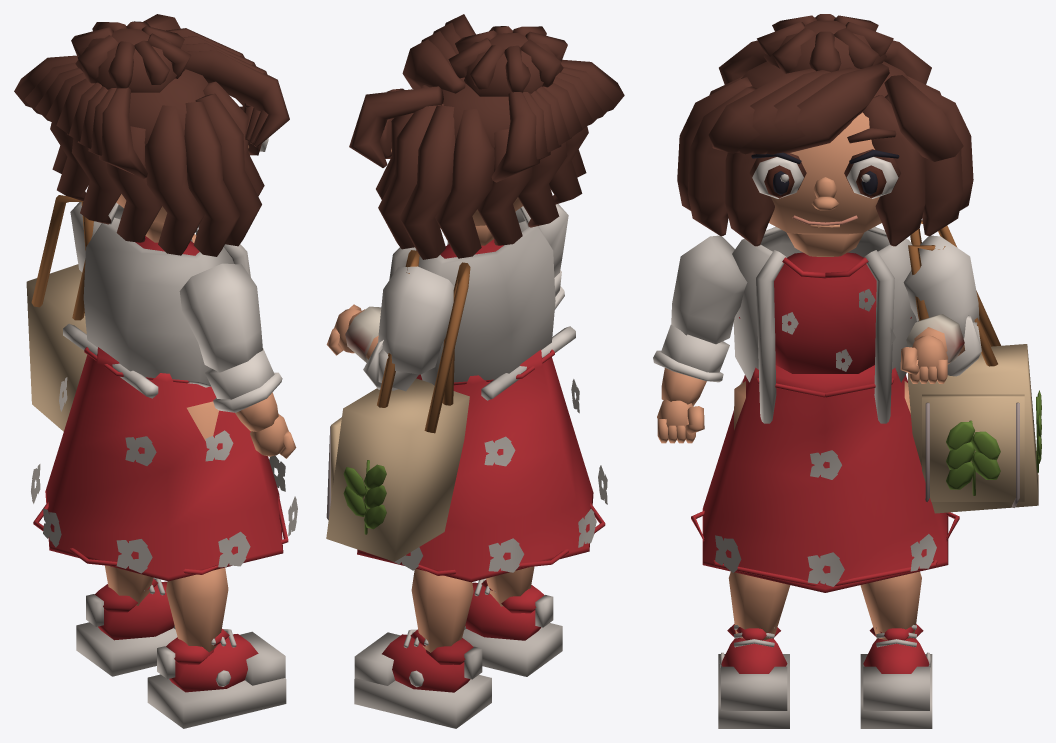
The picture shows the model from 3 angles, left to right: view 1: azimuth 30°, elevation 25°; view 2: azimuth 150°, elevation 25°; view 3: azimuth 270°, elevation 25°; orthographic projection.
Parts seen in each view (by area): view 1: head_pal_picketWhite, hip_pal_picketWhite, torso_pal_picketWhite, footR_pal_picketWhite, footL_pal_picketWhite, armR_pal_picketWhite, foreArmR_pal_picketWhite, shinR_pal_picketWhite, handR_pal_picketWhite, shinL_pal_picketWhite, armL_pal_picketWhite, legR_pal_picketWhite; view 2: head_pal_picketWhite, torso_pal_picketWhite, hip_pal_picketWhite, footL_pal_picketWhite, footR_pal_picketWhite, armL_pal_picketWhite, shinL_pal_picketWhite, foreArmL_pal_picketWhite, shinR_pal_picketWhite, armR_pal_picketWhite, handL_pal_picketWhite; view 3: head_pal_picketWhite, torso_pal_picketWhite, hip_pal_picketWhite, footL_pal_picketWhite, footR_pal_picketWhite, armR_pal_picketWhite, armL_pal_picketWhite, foreArmR_pal_picketWhite, shinL_pal_picketWhite, shinR_pal_picketWhite, foreArmL_pal_picketWhite, handL_pal_picketWhite (+1 smaller).
Boxes of the visible parts, x1,y1,x2,y2 form: head_pal_picketWhite: (14, 14, 289, 256); hip_pal_picketWhite: (31, 347, 297, 581); torso_pal_picketWhite: (26, 195, 250, 431); footR_pal_picketWhite: (147, 629, 286, 728); footL_pal_picketWhite: (76, 577, 177, 676); armR_pal_picketWhite: (179, 263, 262, 372); foreArmR_pal_picketWhite: (205, 348, 282, 431); shinR_pal_picketWhite: (166, 567, 228, 652); handR_pal_picketWhite: (250, 414, 296, 458); shinL_pal_picketWhite: (104, 565, 153, 605); armL_pal_picketWhite: (70, 202, 120, 272); legR_pal_picketWhite: (187, 401, 218, 440); head_pal_picketWhite: (349, 14, 624, 259); torso_pal_picketWhite: (326, 206, 575, 561); hip_pal_picketWhite: (357, 349, 607, 582); footL_pal_picketWhite: (354, 629, 491, 728); footR_pal_picketWhite: (462, 578, 562, 676); armL_pal_picketWhite: (378, 266, 454, 374); shinL_pal_picketWhite: (411, 569, 473, 652); foreArmL_pal_picketWhite: (345, 306, 418, 391); shinR_pal_picketWhite: (486, 566, 534, 606); armR_pal_picketWhite: (519, 204, 568, 277); handL_pal_picketWhite: (326, 304, 361, 355); head_pal_picketWhite: (677, 14, 973, 256); torso_pal_picketWhite: (732, 220, 1041, 513); hip_pal_picketWhite: (691, 365, 959, 592); footL_pal_picketWhite: (860, 624, 932, 728); footR_pal_picketWhite: (718, 624, 789, 728); armR_pal_picketWhite: (671, 235, 747, 344); armL_pal_picketWhite: (903, 235, 979, 338); foreArmR_pal_picketWhite: (653, 324, 729, 406); shinL_pal_picketWhite: (860, 571, 921, 640); shinR_pal_picketWhite: (728, 572, 790, 640); foreArmL_pal_picketWhite: (906, 314, 981, 376); handL_pal_picketWhite: (900, 335, 947, 383).
Size of the model in its own units: 0.5176 by 1.42 by 0.7596.
